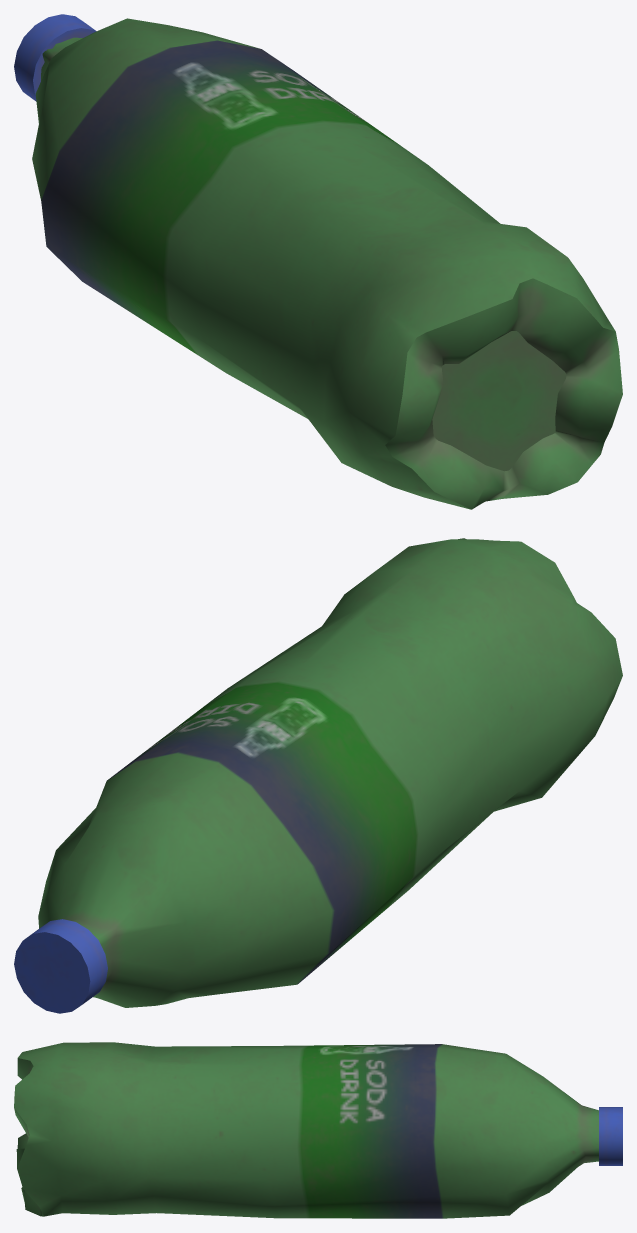
File: SM_Small_Trash_Bottle_08.FBX
3 views of the same model, one above another, from view 1: azimuth 30°, elevation 25°; view 2: azimuth 150°, elevation 25°; view 3: azimuth 270°, elevation 25° (orthographic). The views are drawn at different scales.
Parts seen in each view (by area): view 1: SM_Small_Trash_Bottle_08_LOD0; view 2: SM_Small_Trash_Bottle_08_LOD0; view 3: SM_Small_Trash_Bottle_08_LOD0.
Boxes of the visible parts, x1,y1,x2,y2 form: SM_Small_Trash_Bottle_08_LOD0: (14, 14, 622, 509); SM_Small_Trash_Bottle_08_LOD0: (14, 538, 622, 1013); SM_Small_Trash_Bottle_08_LOD0: (14, 1042, 622, 1218).
Size of what is drawn, in the model's own units: 8.82 by 26.41 by 6.9.
